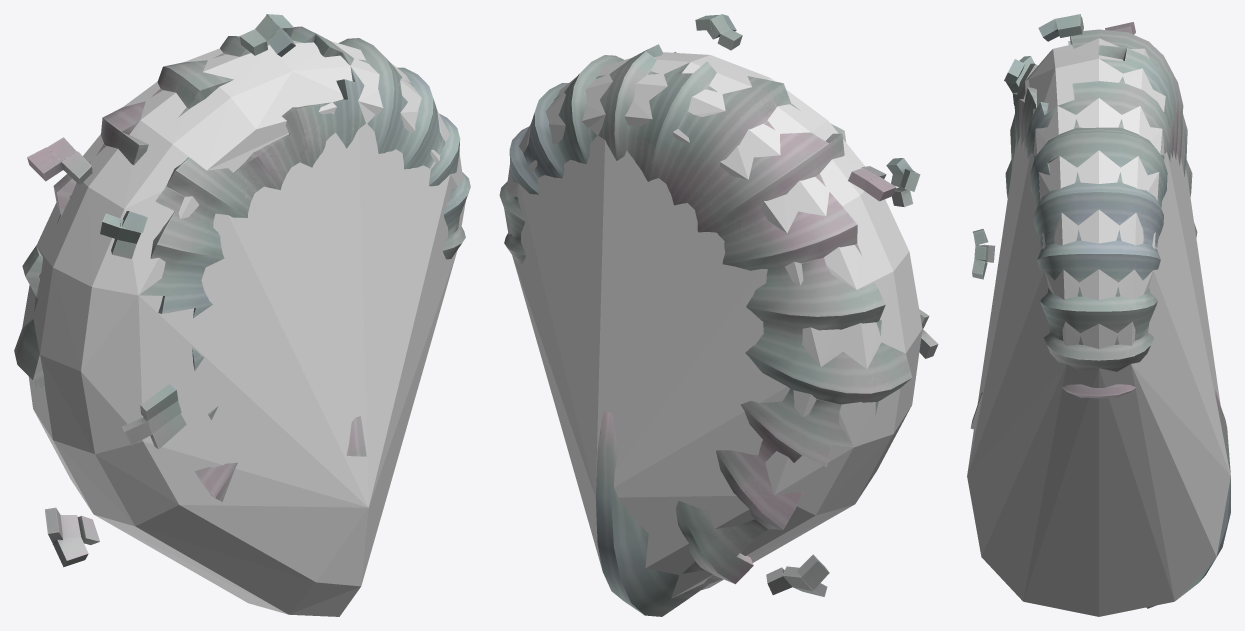
The model's file is shell_4.glb.
The picture shows the model from 3 angles, left to right: view 1: azimuth 30°, elevation 25°; view 2: azimuth 150°, elevation 25°; view 3: azimuth 270°, elevation 25°; orthographic projection. The views are drawn at different scales.
Visible parts, largest first — view 1: shell_4_hull_col, shell_4; view 2: shell_4_hull_col, shell_4; view 3: shell_4_hull_col, shell_4.
Boxes of the visible parts, x1=… form: shell_4_hull_col: x1=22, y1=40, x2=465, y2=616; shell_4: x1=14, y1=14, x2=470, y2=567; shell_4_hull_col: x1=504, y1=52, x2=922, y2=598; shell_4: x1=499, y1=14, x2=938, y2=616; shell_4_hull_col: x1=967, y1=38, x2=1230, y2=616; shell_4: x1=970, y1=14, x2=1230, y2=608.
Bounding box in the file's own units: 13.55 × 18.58 × 7.56.
Materials: 2 (2 with a texture image).
